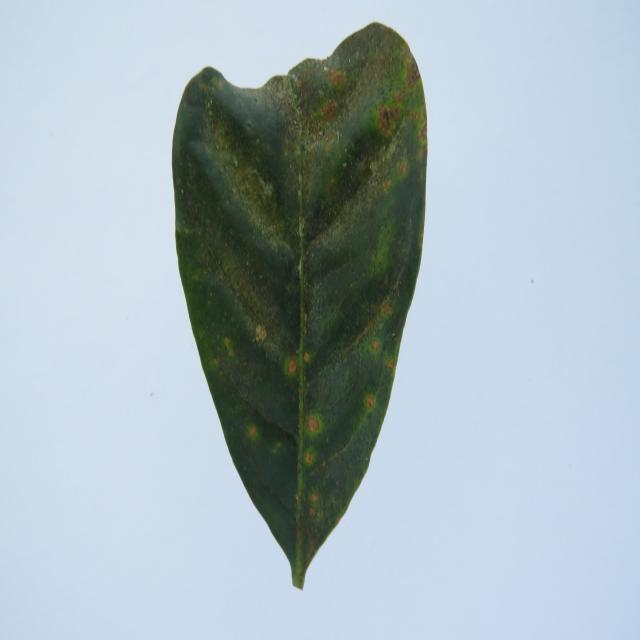DeficienciaNutricional-Boro: (172, 23, 428, 588)
